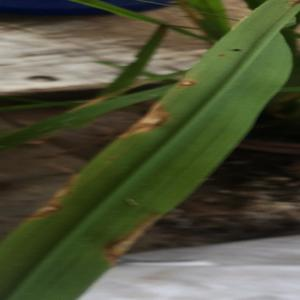Rice_Blast: (111, 91, 193, 149), (104, 209, 177, 257), (17, 187, 81, 229), (165, 67, 214, 108)
